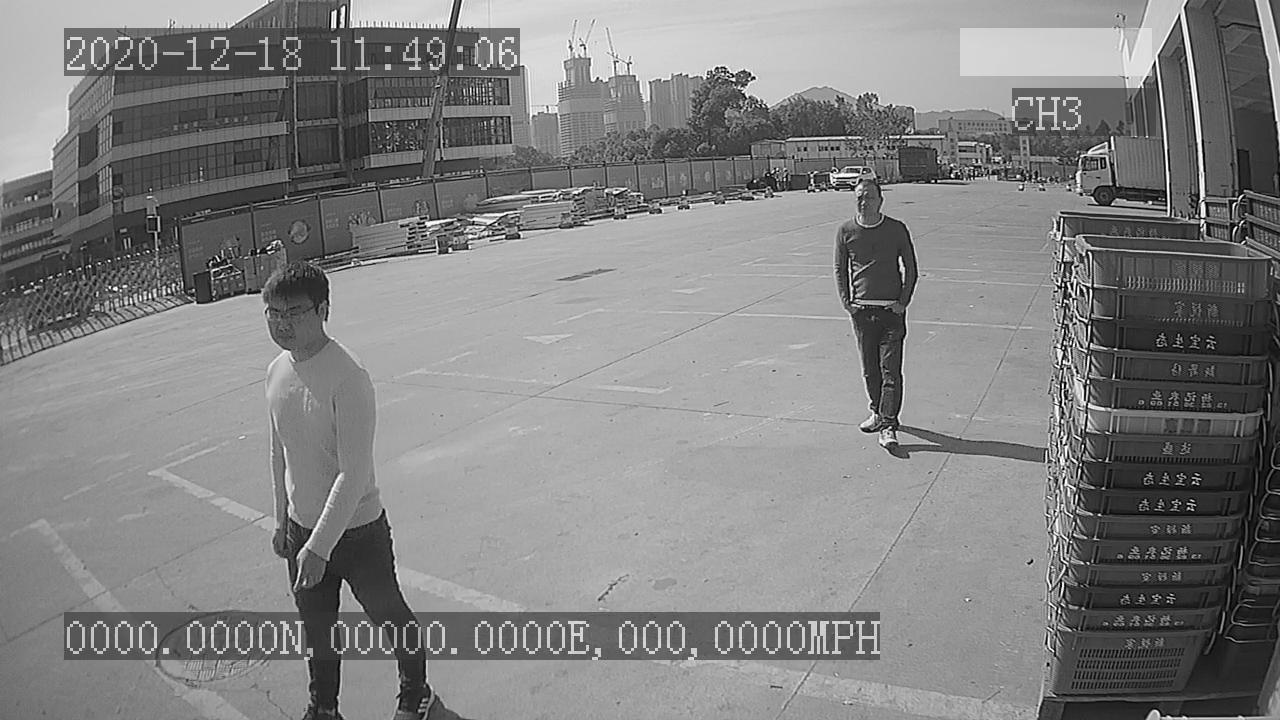person: (827, 176, 922, 454)
